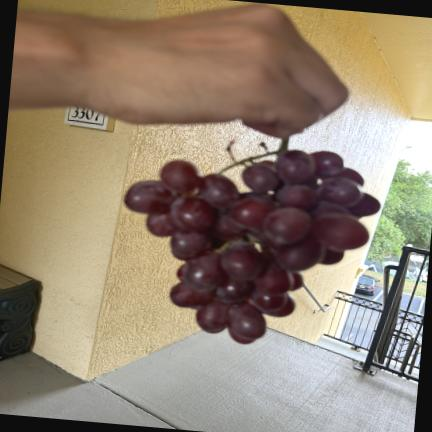grape_cluster: (125, 140, 381, 343)
